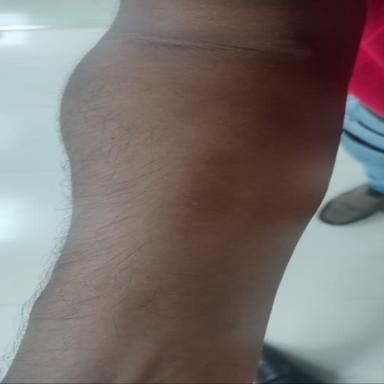normal skin: (3, 0, 365, 383)
